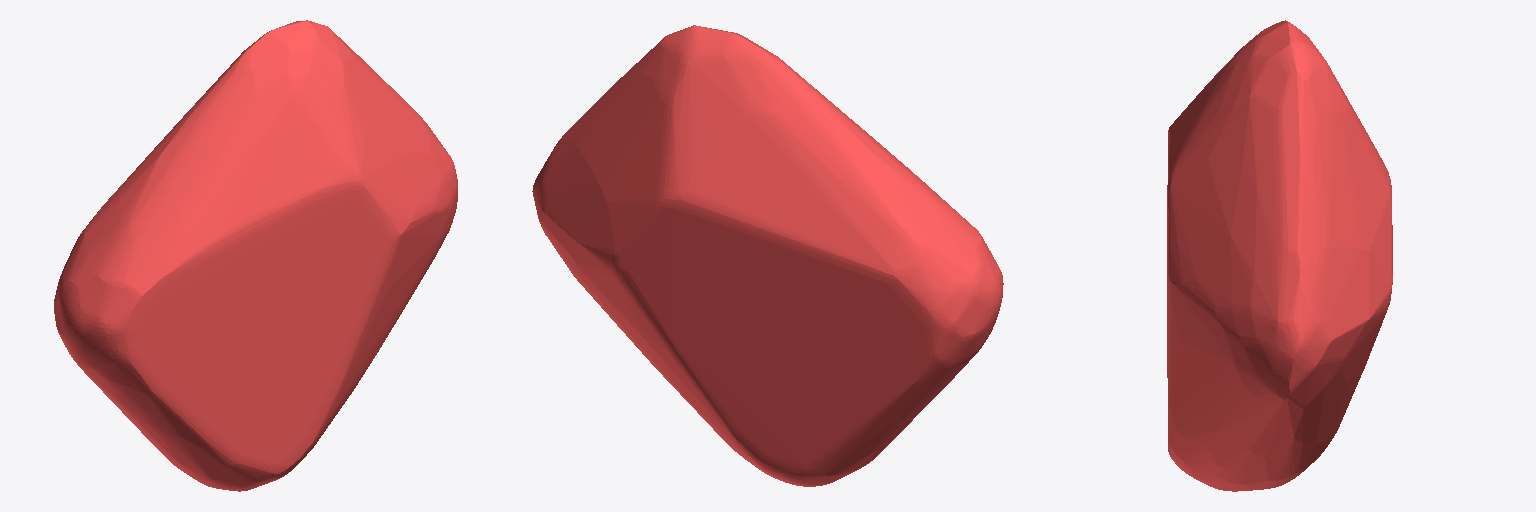
robot.urdf — my_mesh:
<?xml version="1.0" ?>
<robot name="my_mesh">
  <link name="baseLink">
    <contact>
      <lateral_friction value="1.0"/>
      <rolling_friction value="0.0"/>
      <contact_cfm value="0.0"/>
      <contact_erp value="1.0"/>
    </contact>
    <inertial>
      <origin rpy="0 0 0" xyz="0 0 0"/>
       <mass value="10"/>
       <inertia ixx="1" ixy="0" ixz="0" iyy="1" iyz="0" izz="1"/>
    </inertial>
    <visual>
      <origin rpy="0 0 0" xyz="0 0 0"/>
      <geometry>
        <mesh filename="my_mesh.obj" scale="1 1 1"/>
      </geometry>
       <material name="red">
        <color rgba="1 0.4 0.4 1"/>
      </material>
    </visual>
    <collision>
      <origin rpy="0 0 0" xyz="0 0 0"/>
      <geometry>
	 	<mesh filename="my_mesh.obj" scale="1 1 1"/>
      </geometry>
    </collision>
  </link>
</robot>

--- Facts derived from the render (not from the file) ---
Views: 3 orthographic renders of the robot side by side, from view 1: azimuth 30°, elevation 25°; view 2: azimuth 150°, elevation 25°; view 3: azimuth 270°, elevation 25°.
Robot: my_mesh — 1 links, 0 joints (none); root link baseLink; default pose: every joint at zero.
Links seen in each view (by area): view 1: baseLink; view 2: baseLink; view 3: baseLink.
Link boxes in pixels (x1=…): baseLink: x1=54, y1=20, x2=457, y2=491; baseLink: x1=532, y1=25, x2=1003, y2=486; baseLink: x1=1167, y1=20, x2=1392, y2=491.
Bounding box of the posed robot: 57.39 × 23.28 × 56.1 m (x, y, z).
1 mesh visuals loaded from 1 distinct referenced files (1 OBJ).